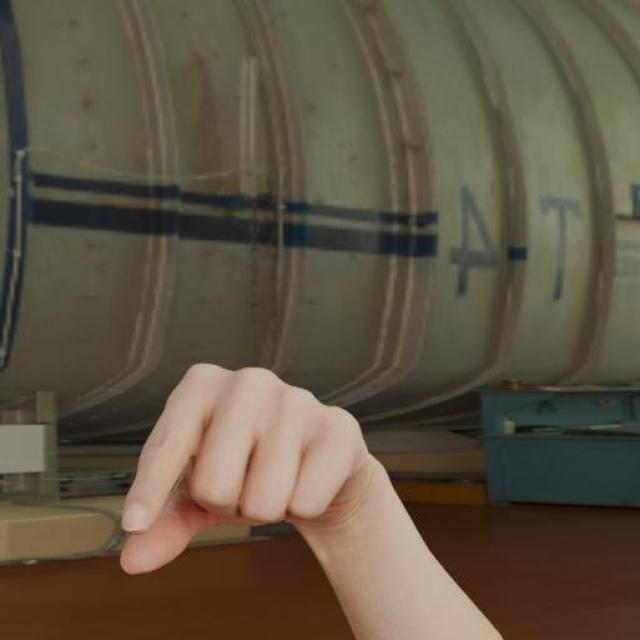Q: (110, 357, 378, 609)
